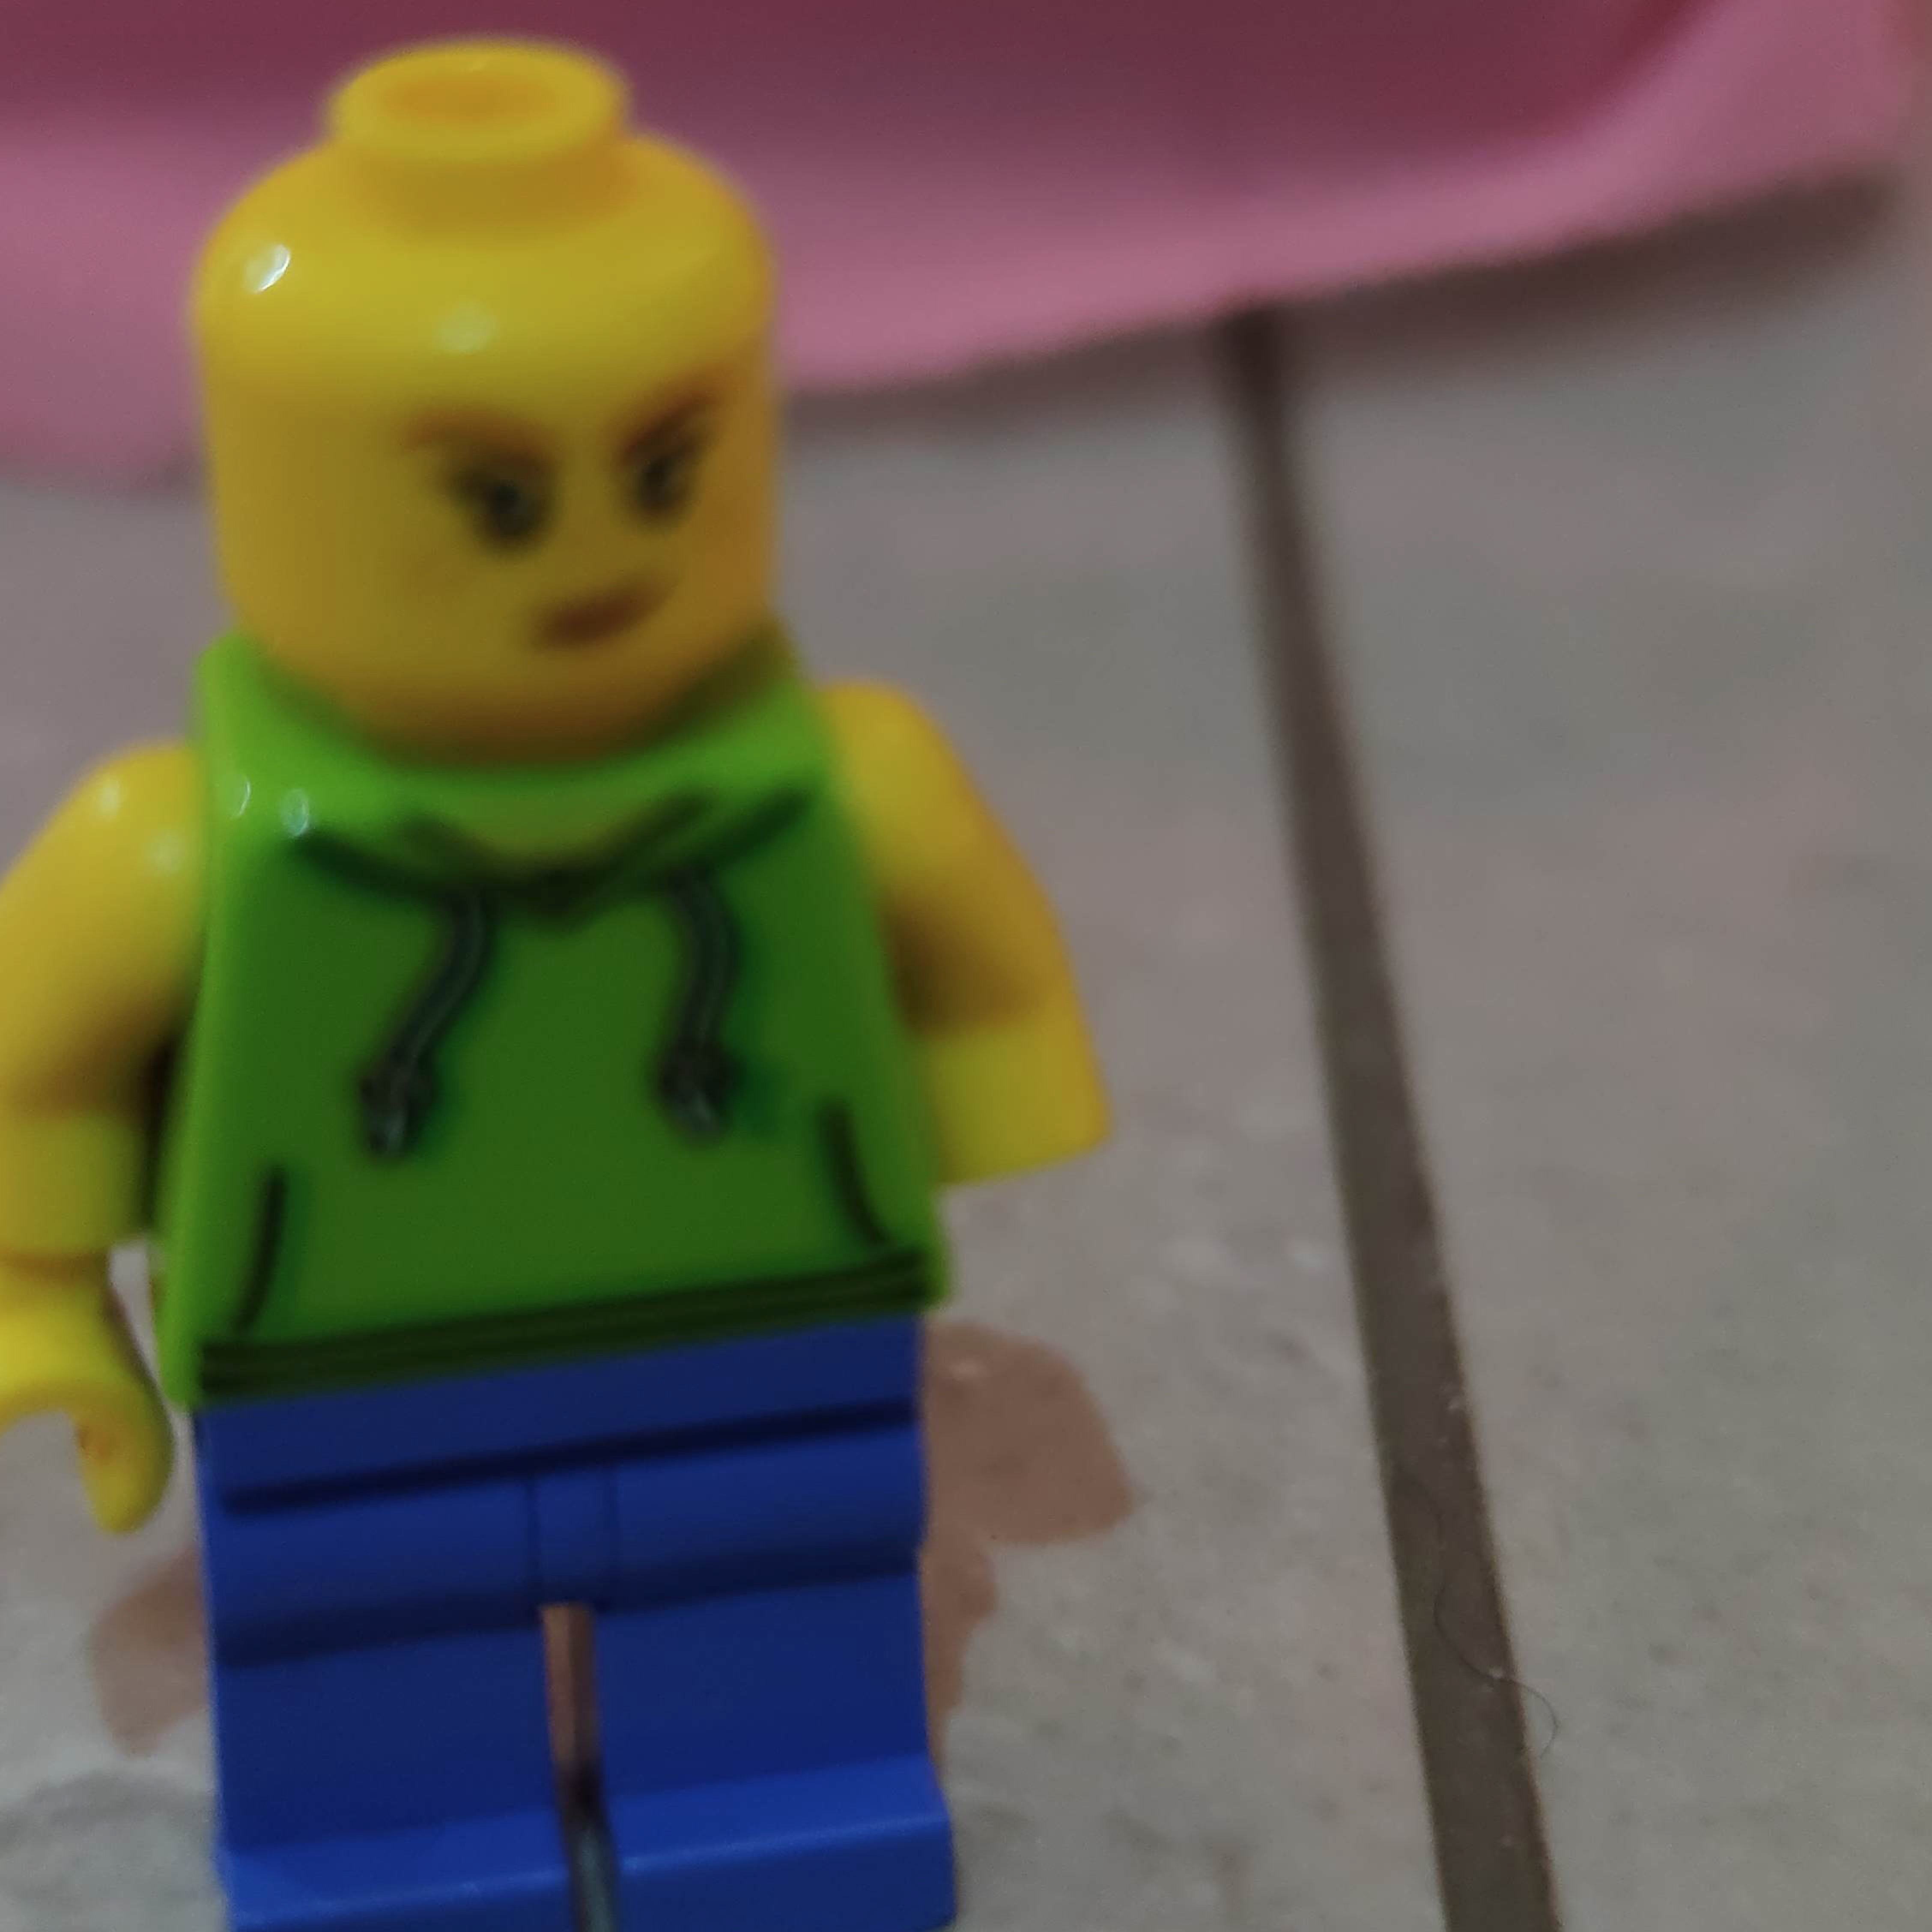lego: (0, 44, 1106, 1932)
